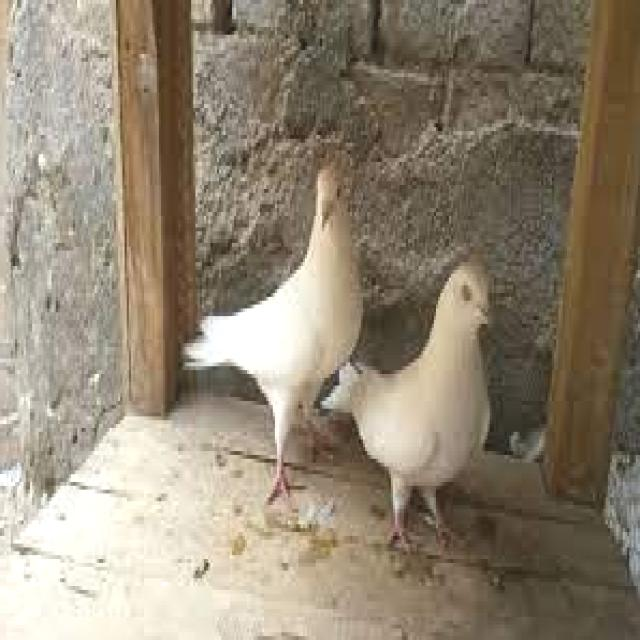bird: (324, 248, 502, 558)
